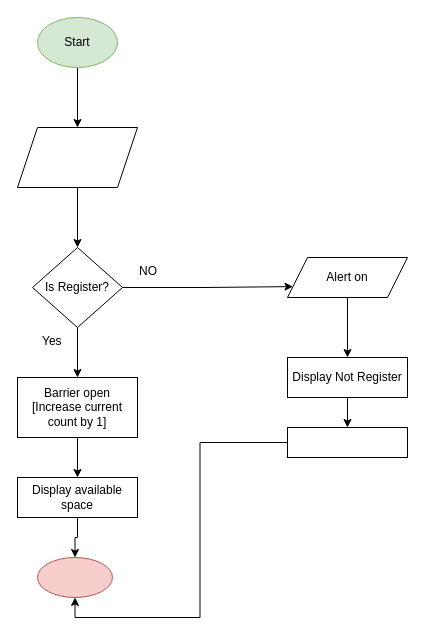
This 425x643 diagram has some shape labels left out. Here are the shapes that lost their labels. From the top down, the centre of each, then its label:
At pixel 77 157: "Input Vehicle ID".
At pixel 347 442: "Barrier close".
At pixel 74 577: "End".
